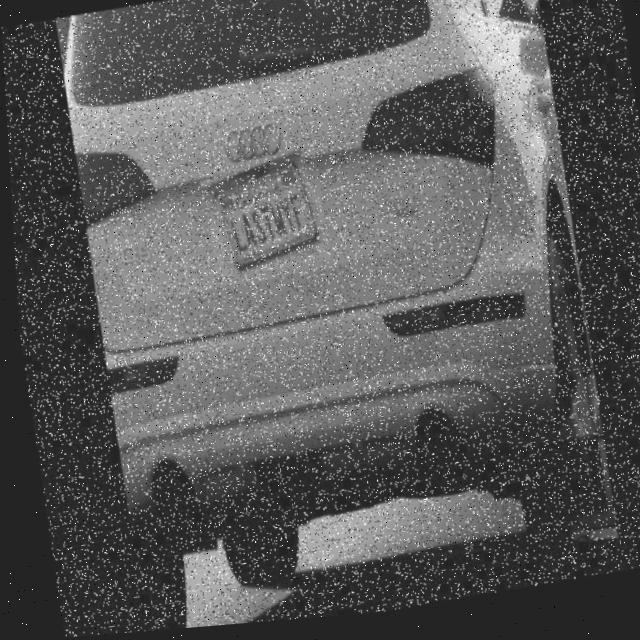LicensePlate: (198, 152, 327, 282)
